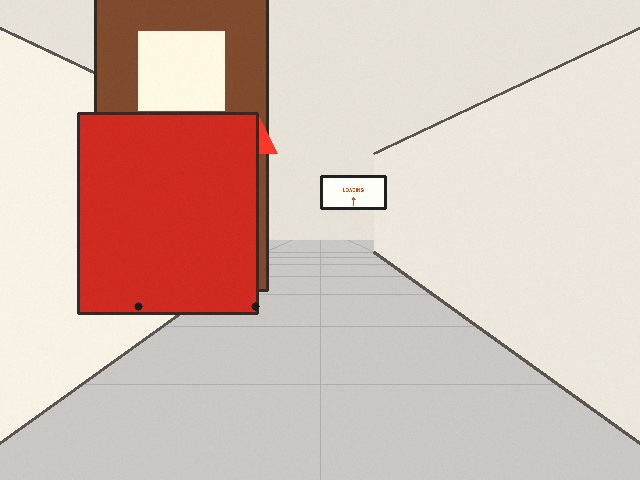cart: (78, 113, 277, 313)
directional_sign: (321, 176, 385, 208)
door: (95, 0, 267, 290)
